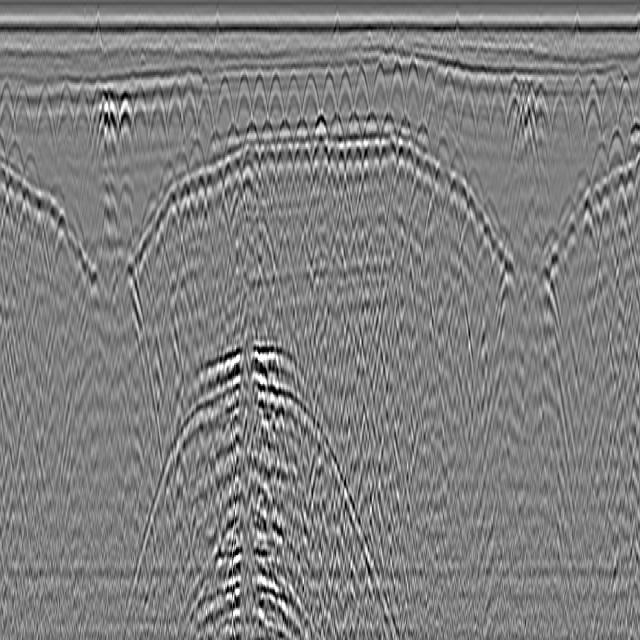hyperbola: (162, 83, 184, 190), (502, 65, 526, 163), (12, 68, 35, 168), (36, 68, 57, 176), (71, 75, 90, 192), (56, 78, 78, 178), (471, 61, 493, 161), (487, 55, 507, 158), (436, 61, 458, 153), (454, 71, 477, 158), (549, 80, 571, 168), (195, 68, 215, 163), (532, 58, 549, 168), (179, 68, 198, 166), (566, 68, 587, 153), (116, 87, 137, 171), (148, 80, 168, 168), (615, 61, 634, 152), (369, 49, 390, 130), (402, 55, 422, 138), (266, 61, 285, 146), (132, 84, 149, 176), (387, 51, 405, 135), (215, 68, 235, 143), (90, 80, 105, 178), (234, 64, 251, 150), (352, 58, 372, 130), (250, 59, 268, 138), (584, 74, 602, 151), (319, 68, 337, 143), (422, 61, 439, 140), (0, 74, 16, 156), (335, 68, 355, 132), (300, 71, 320, 133), (285, 68, 303, 132), (602, 74, 617, 140)
